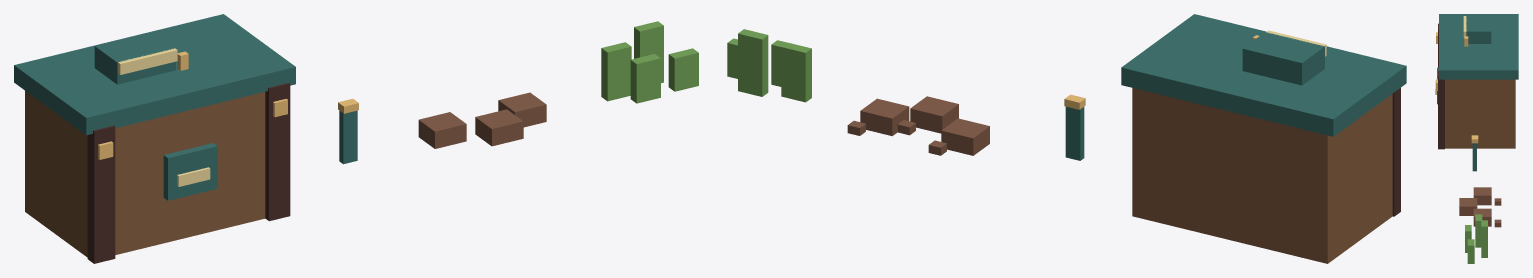
File: mond-return-box-model.obj
3 views of the same model, side by side, from view 1: azimuth 30°, elevation 25°; view 2: azimuth 150°, elevation 25°; view 3: azimuth 270°, elevation 25° (orthographic). The views are drawn at different scales.
Parts seen in each view (by area): view 1: LibraryReturnBox; view 2: LibraryReturnBox; view 3: LibraryReturnBox.
Boxes of the visible parts, bbox=[...] form: LibraryReturnBox: bbox=[14, 14, 698, 263]; LibraryReturnBox: bbox=[727, 14, 1406, 263]; LibraryReturnBox: bbox=[1435, 14, 1518, 263].
Bounding box in the file's own units: 4.23 × 1.08 × 0.868.
